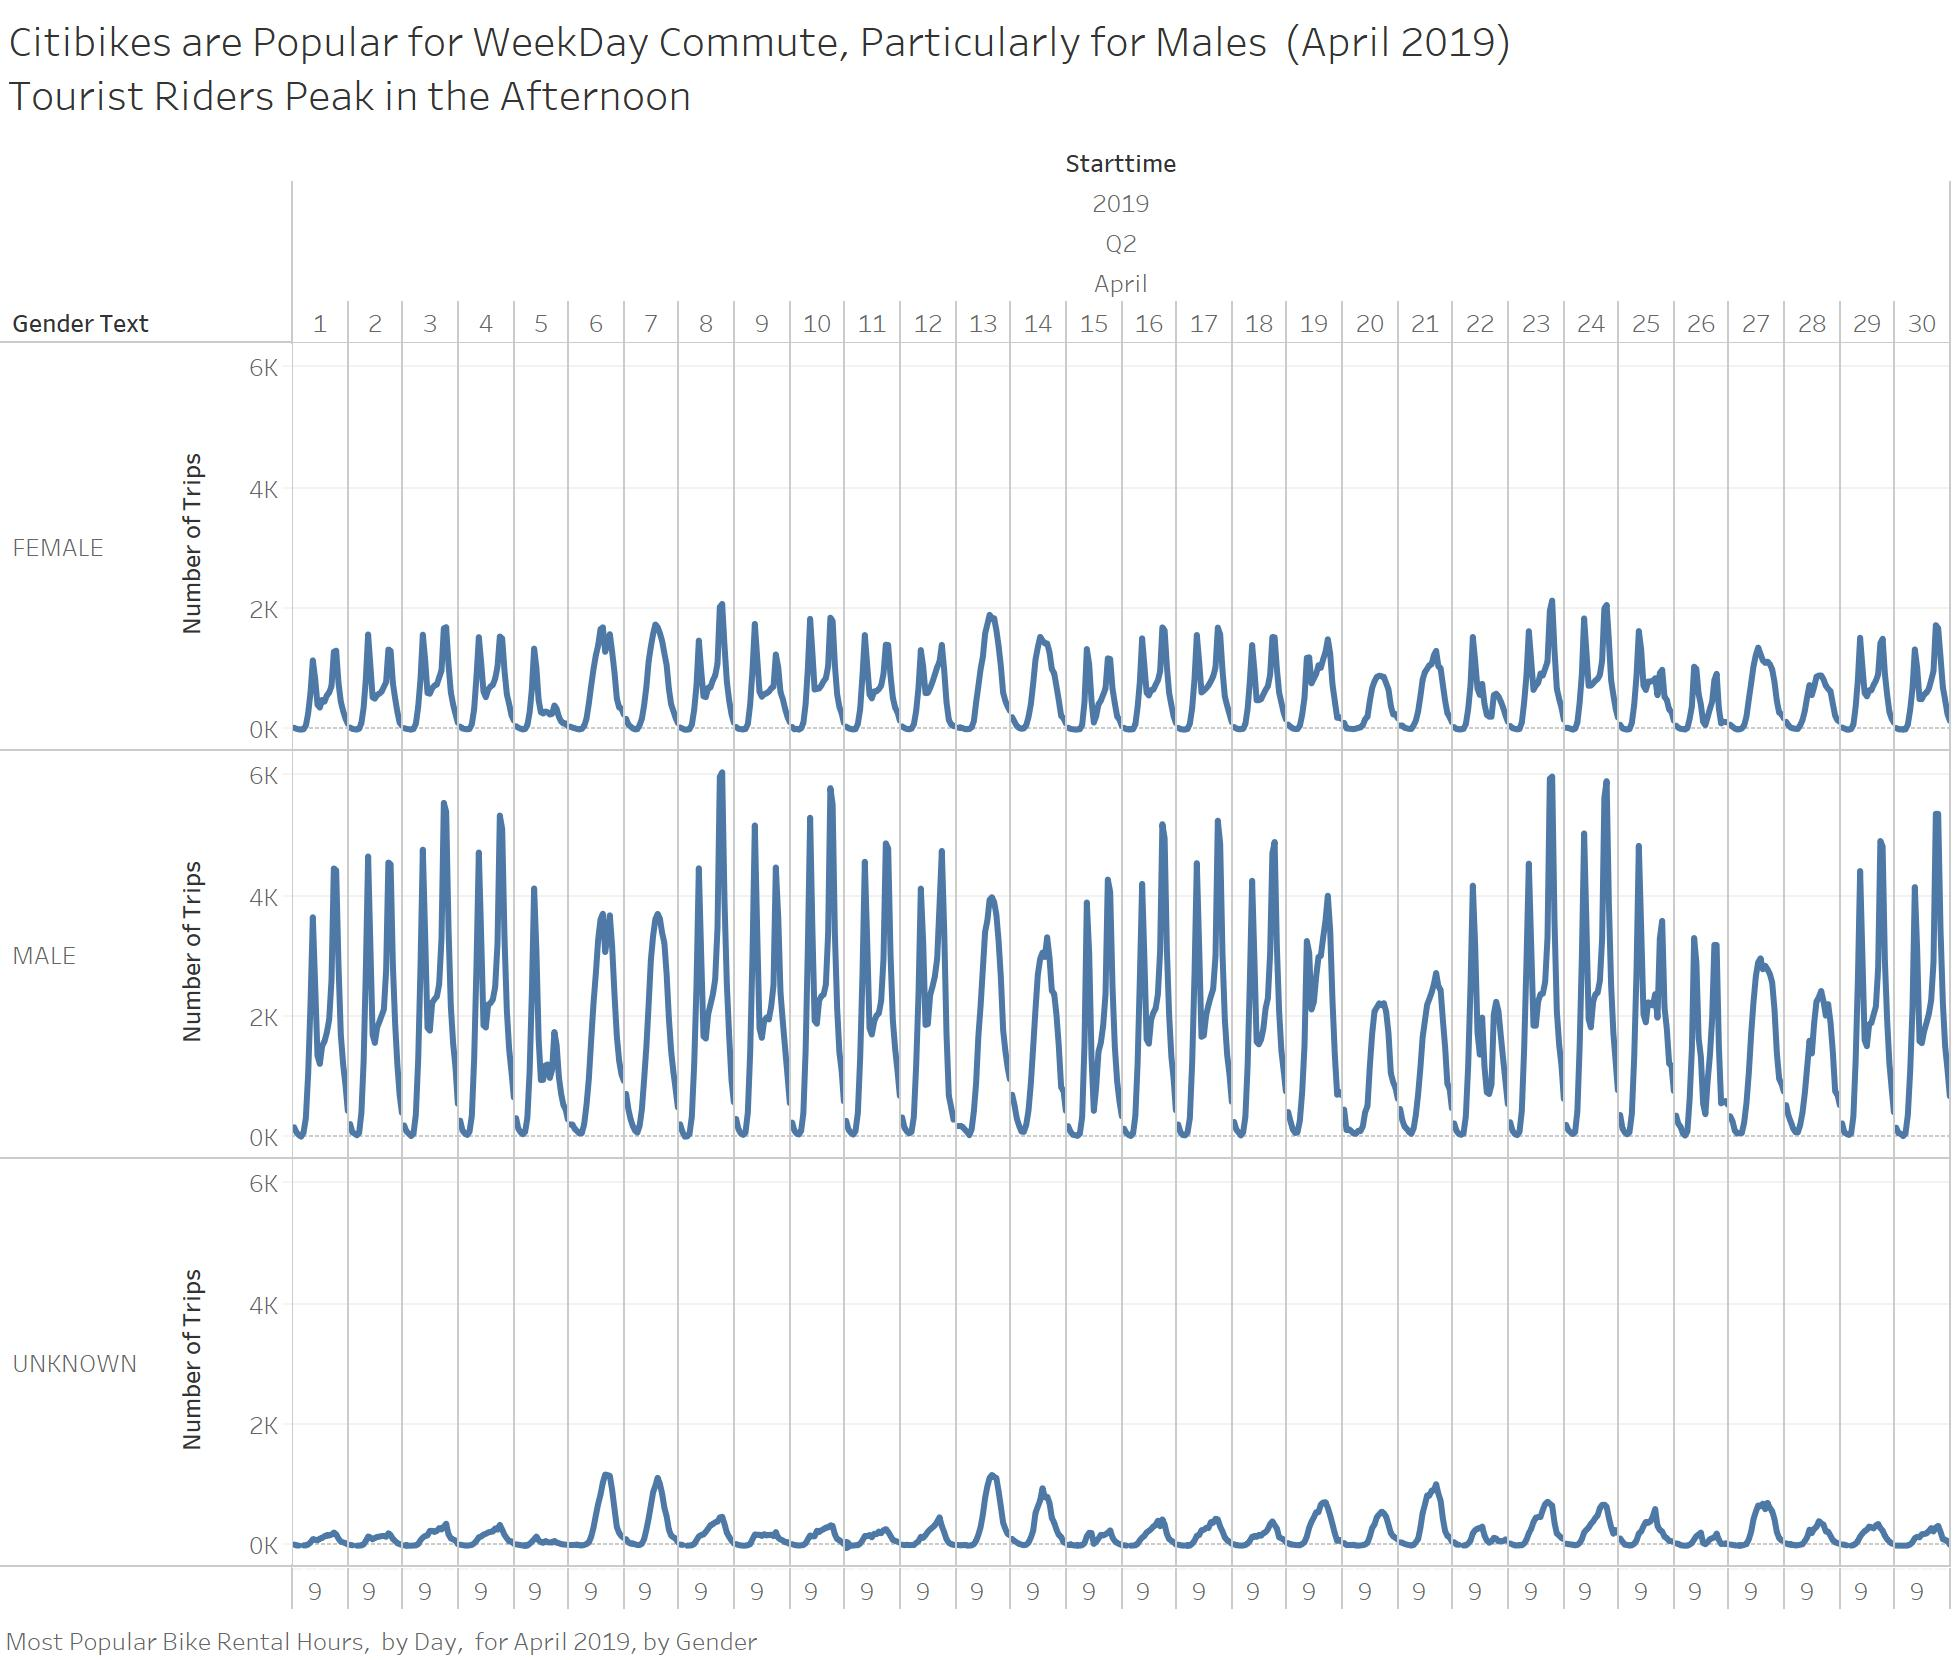

The page's visual inventory and layout, read from the dashboard file:
{"tool":"tableau","page":{"name":"Most Popular Trip Times by Gender","canvas":[1000,800],"ordinal":3},"visuals":[{"type":"title","box":[8,8,984,42]},{"type":"worksheet","title":"Trip Times","mark":"Automatic","rows":["Calculation_978970029277655041","Number of Records"],"cols":["starttime","starttime","starttime","starttime","starttime"],"box":[8,50,984,742]}]}

Visuals, with their boxes on the page's 1000x800 design canvas (x1, y1, x2, y2). These are canvas units, not pixel positions in the 1954x1660 screenshot, which may show the page scaled, cropped or inside an application window:
title: {"x1": 8, "y1": 8, "x2": 992, "y2": 50}
"Trip Times" worksheet: {"x1": 8, "y1": 50, "x2": 992, "y2": 792}
